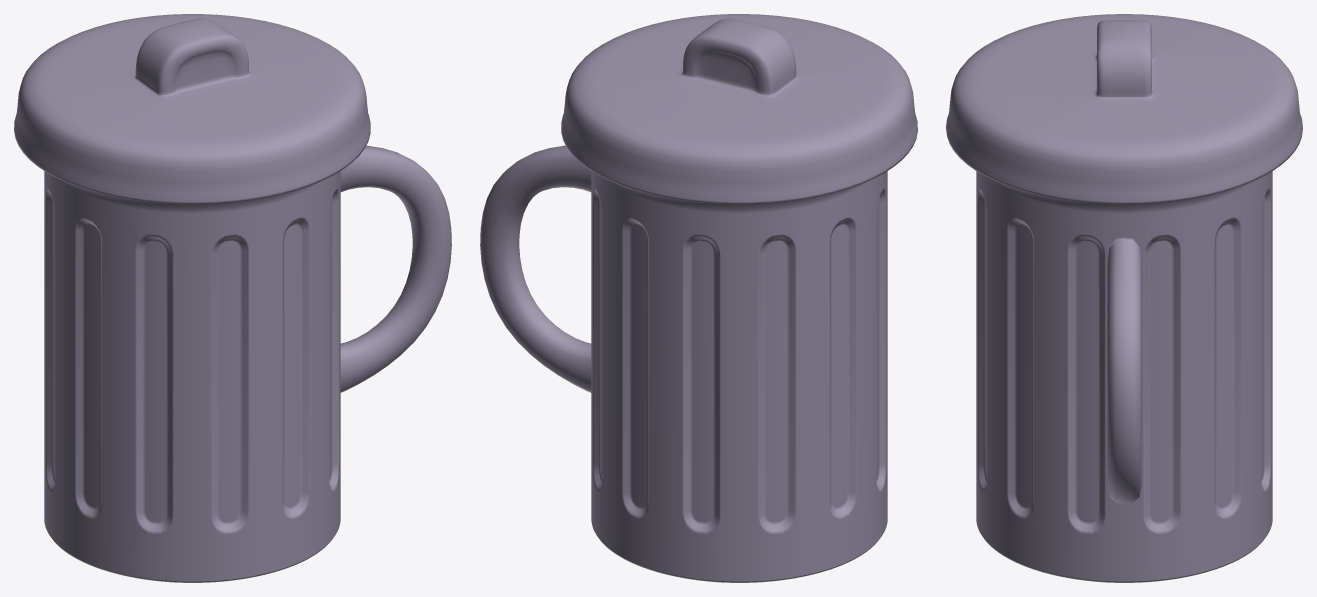
File: mug.glb
The picture shows the model from 3 angles, left to right: view 1: azimuth 30°, elevation 25°; view 2: azimuth 150°, elevation 25°; view 3: azimuth 270°, elevation 25°; orthographic projection.
Parts seen in each view (by area): view 1: mug_body, mug_lid, mug_handle; view 2: mug_body, mug_lid, mug_handle; view 3: mug_body, mug_lid, mug_handle.
Boxes of the visible parts, bbox=[...] form: mug_body: bbox=[44, 171, 340, 582]; mug_lid: bbox=[14, 14, 370, 204]; mug_handle: bbox=[340, 145, 451, 392]; mug_body: bbox=[591, 171, 887, 582]; mug_lid: bbox=[561, 14, 917, 204]; mug_handle: bbox=[480, 145, 591, 392]; mug_body: bbox=[976, 171, 1272, 582]; mug_lid: bbox=[946, 14, 1302, 204]; mug_handle: bbox=[1106, 234, 1142, 503].
Size of the model in its own units: 2.73 by 3.14 by 2.06.
